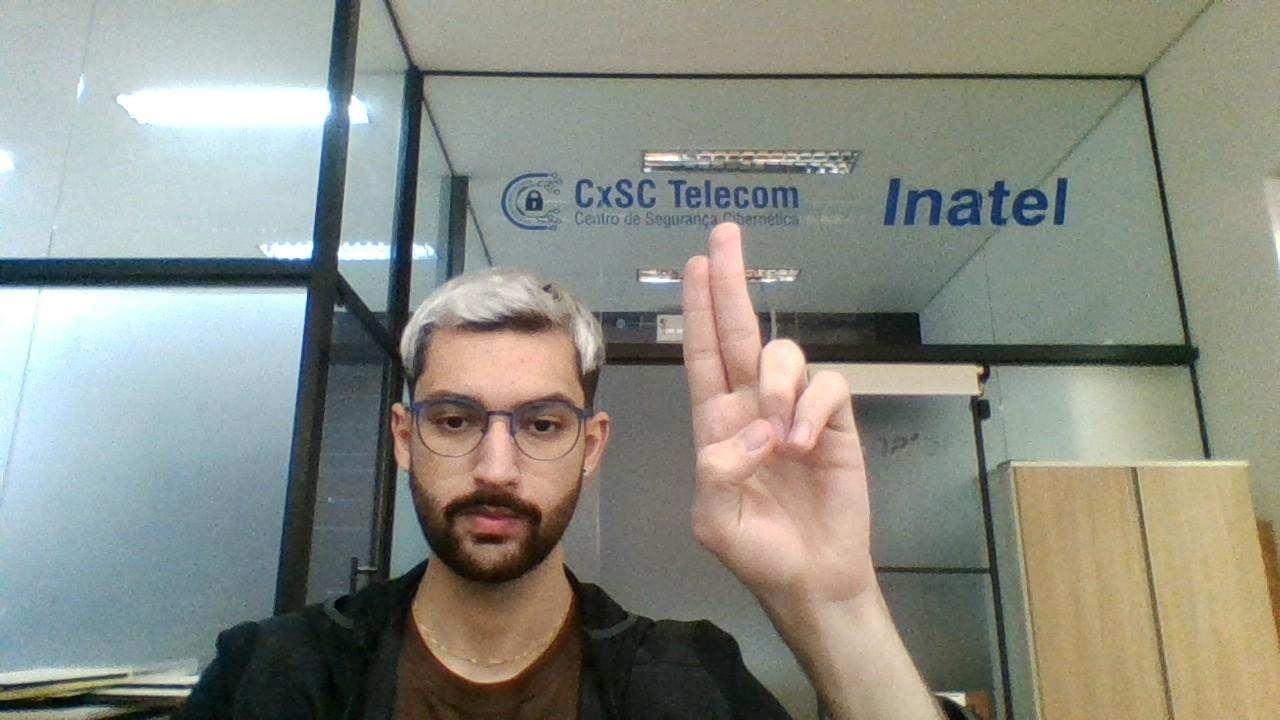U: (668, 216, 880, 596)
